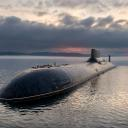submarine: (1, 48, 119, 106)
